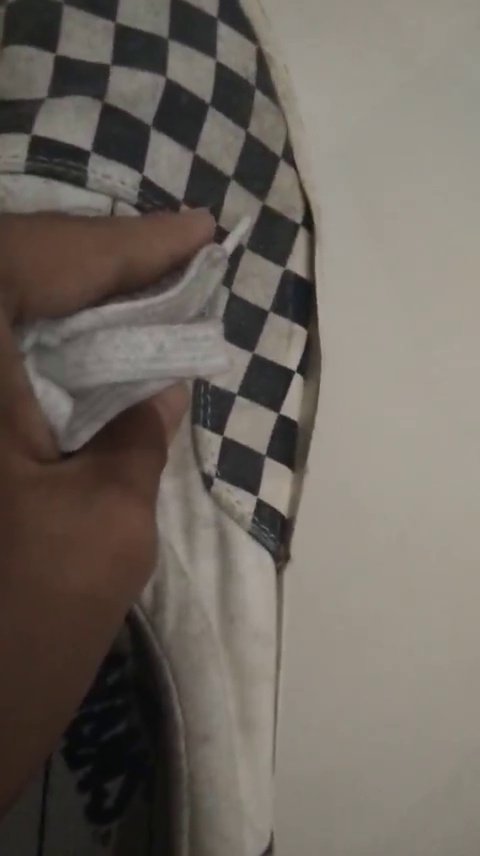bonding: (289, 190, 335, 527)
